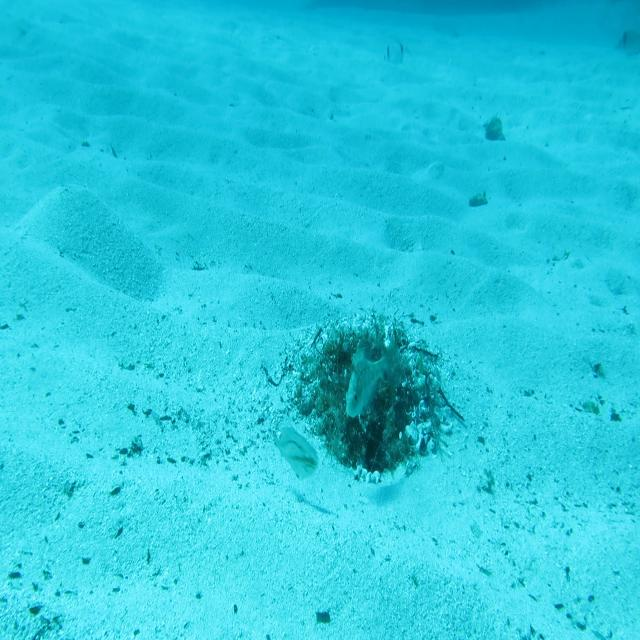CHASE_FLEE: (343, 338, 402, 421)
core_nest: (342, 333, 386, 370)
female: (270, 423, 320, 482)
nest: (280, 303, 456, 489)
other_fish: (381, 36, 411, 70), (613, 24, 640, 58)
vegetation: (480, 115, 506, 143), (467, 190, 489, 211), (315, 610, 329, 624)
